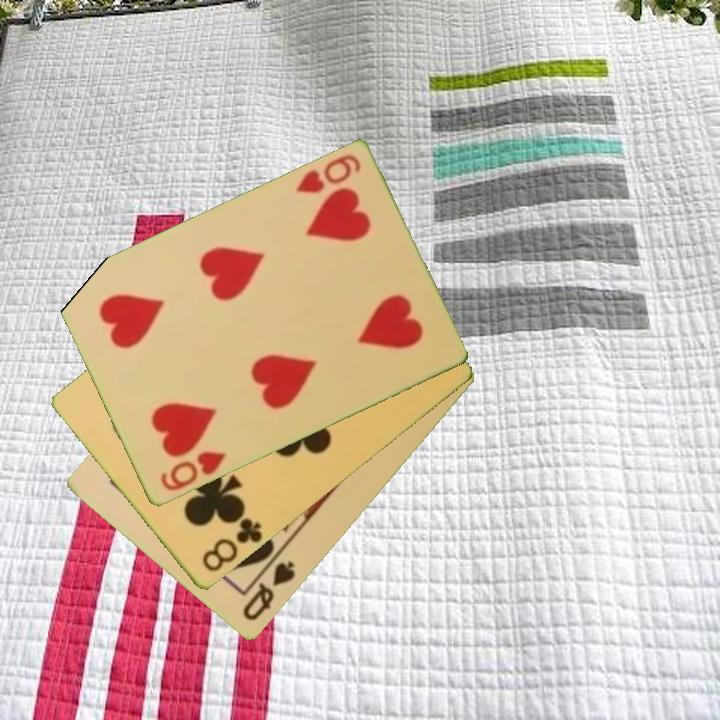6h: (156, 448, 230, 495), (291, 151, 364, 197)
8c: (198, 512, 266, 575)
Qs: (239, 557, 299, 625)
